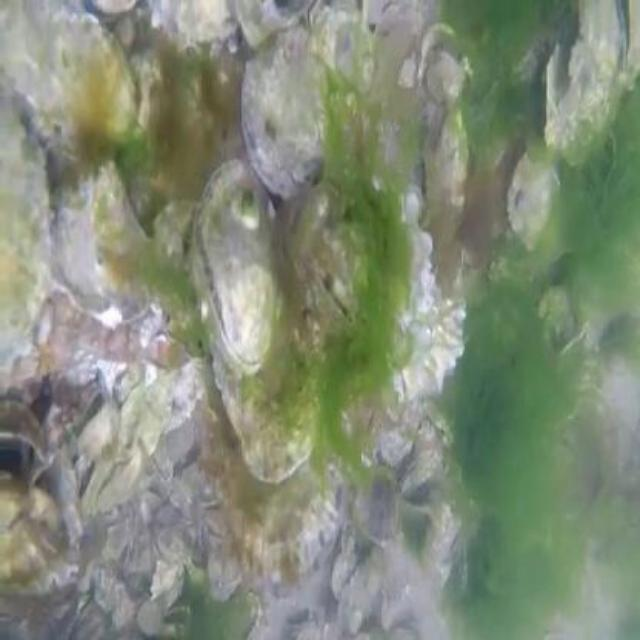Oyster-Closed: (287, 184, 465, 404), (241, 7, 371, 197), (213, 287, 327, 484), (220, 399, 339, 586), (0, 0, 134, 161), (189, 157, 283, 385), (51, 164, 155, 321), (0, 96, 51, 378), (1, 520, 81, 597), (509, 150, 556, 251), (145, 0, 231, 50), (340, 546, 386, 629), (355, 471, 400, 542), (617, 1, 640, 93), (427, 52, 466, 106), (399, 450, 439, 496), (156, 507, 185, 559), (102, 524, 132, 564), (153, 440, 172, 486), (142, 602, 160, 633)
Oyster-Open: (543, 0, 624, 167), (79, 386, 115, 456), (77, 461, 103, 504), (160, 608, 190, 639), (305, 0, 326, 31)
